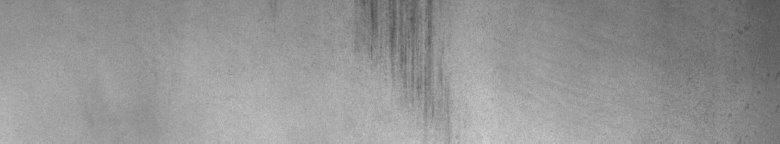ka: (364, 4, 442, 118)
